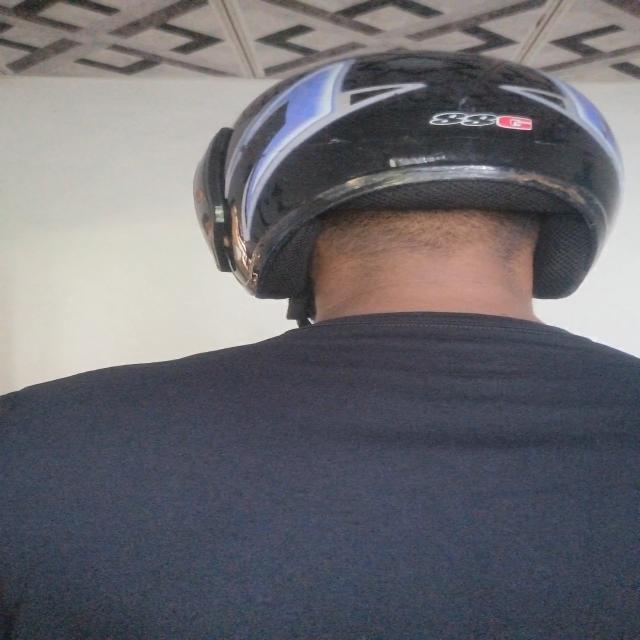Helmet_Wearer: (213, 29, 640, 408)
Person: (3, 35, 640, 640)
